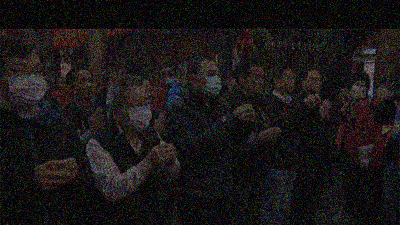with_mask: (3, 57, 49, 107), (121, 96, 152, 131), (195, 67, 222, 98), (164, 68, 178, 88), (352, 80, 367, 96)
without_mask: (75, 75, 97, 97), (249, 70, 266, 95), (305, 74, 322, 93), (281, 72, 296, 91), (379, 82, 392, 99), (58, 79, 68, 90)
